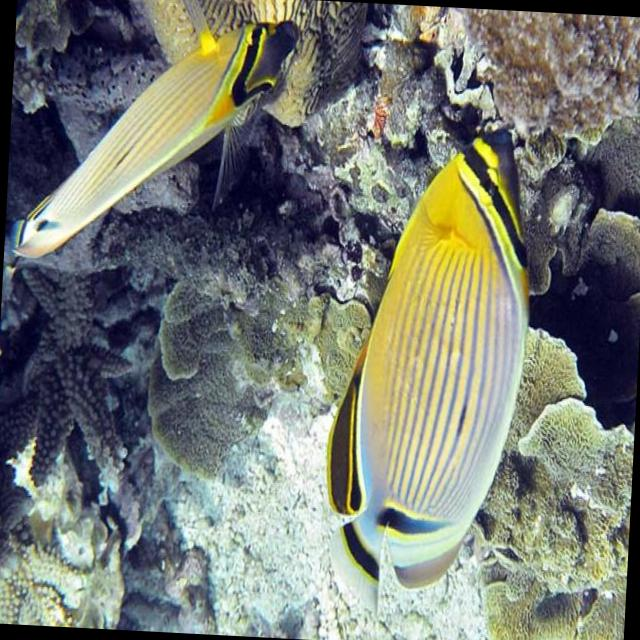ButterflyFish: (323, 132, 538, 598), (9, 0, 296, 299)
